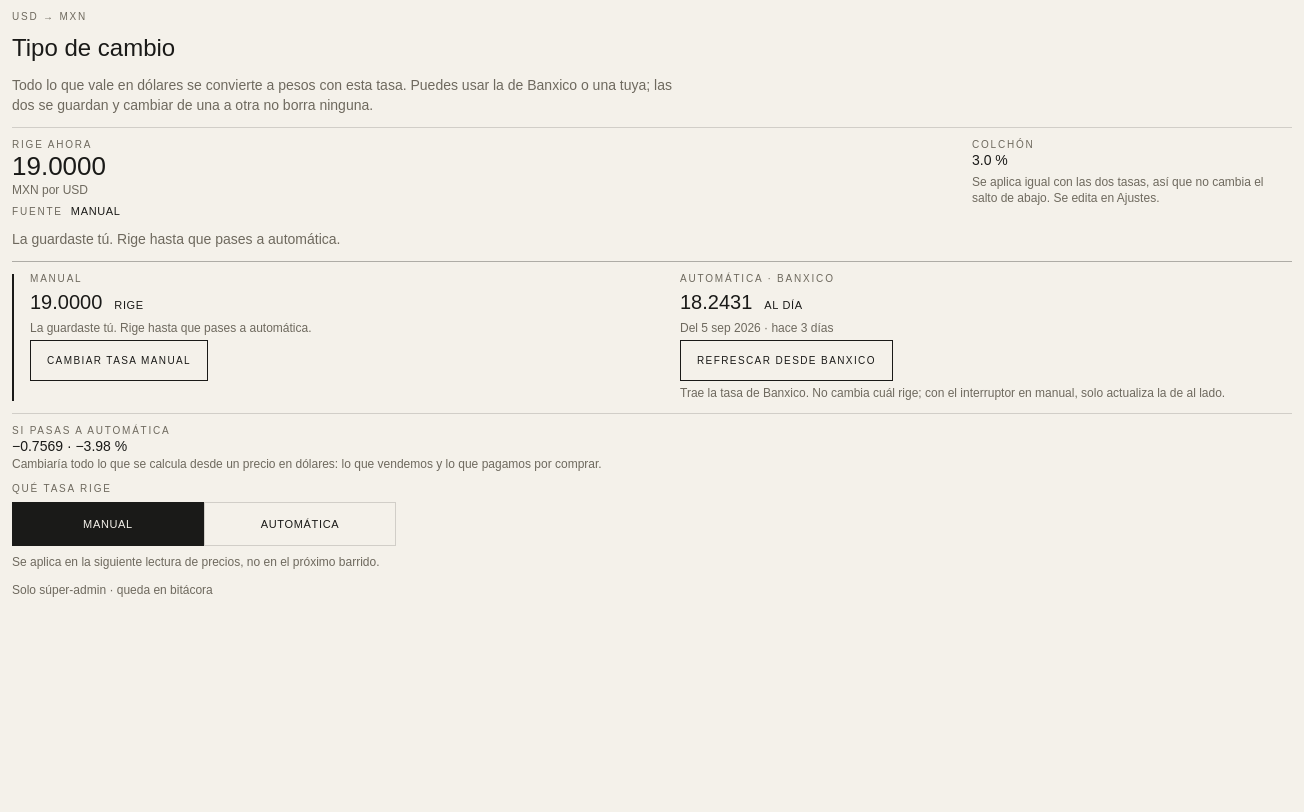
Test: FX-UI-3 ⭐ · el refresco no afirma un éxito que no ocurrió › ⛔ un `200` sin cifra que afirmar tampoco se anuncia como éxito (la deuda de `fetchedRate`)
The image size is (1304, 812).
Click the button "Refrescar desde Banxico" at [786, 361], box [680,340,893,381]
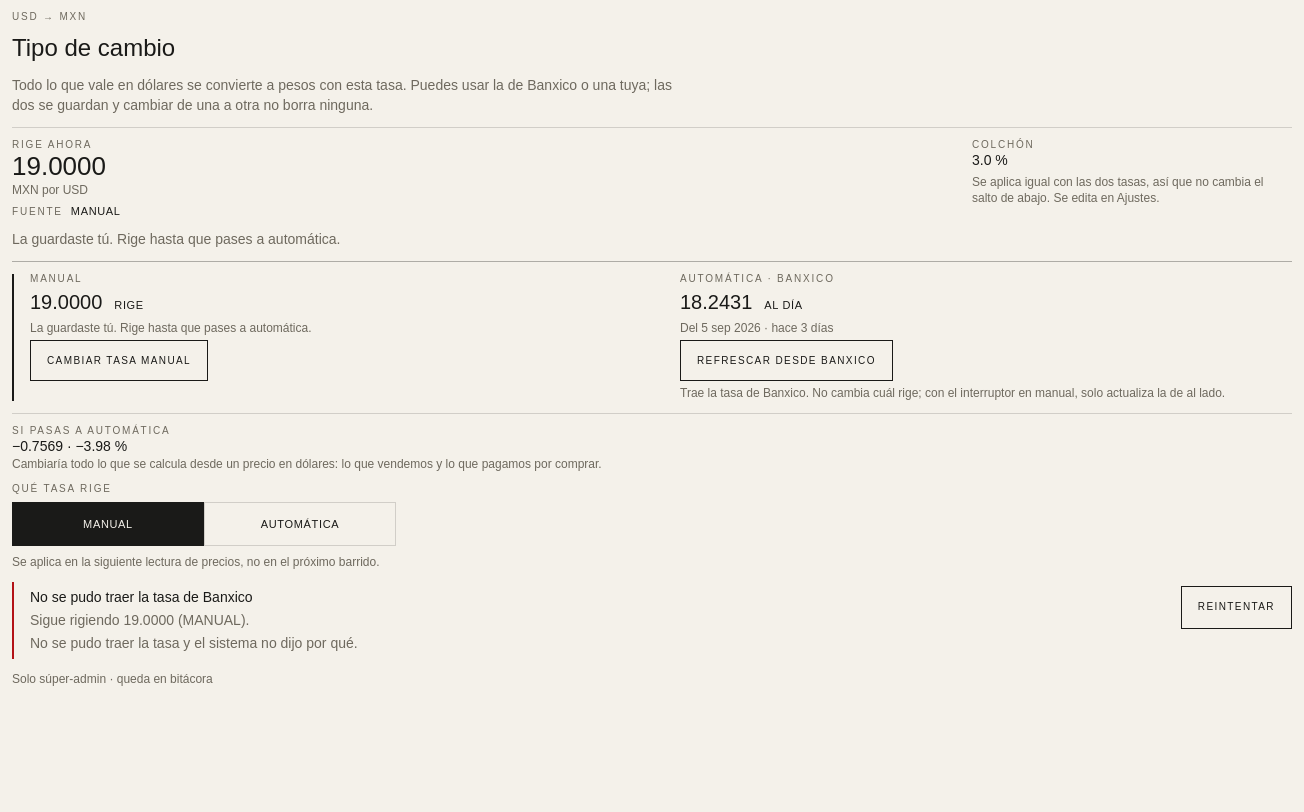
Result: the message shows "No se pudo traer la tasa de Banxico" at [30,589,253,605]
